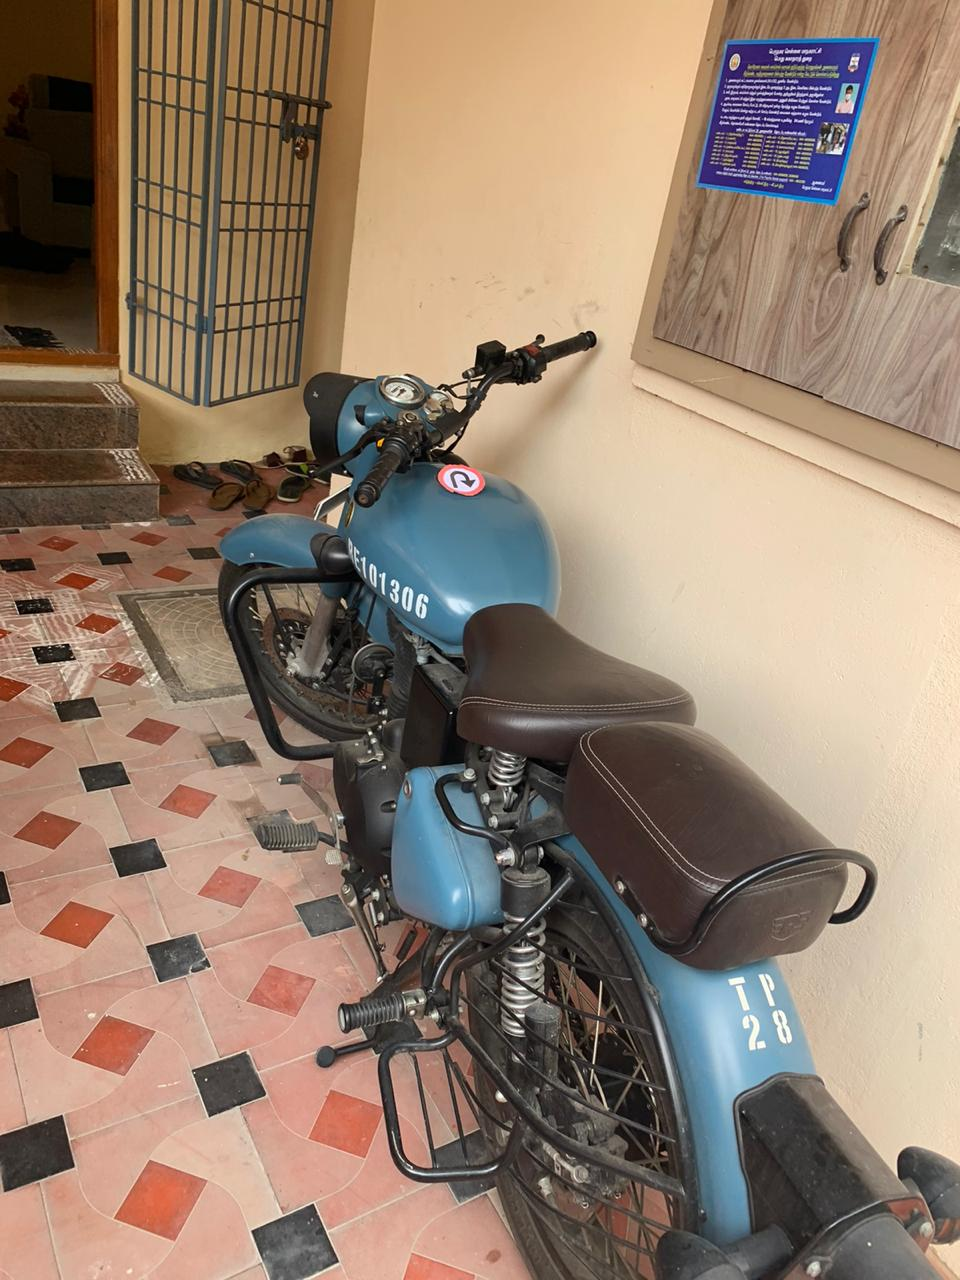U-TURN: (434, 457, 495, 503)
